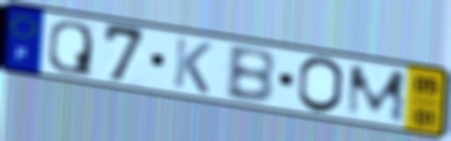7: (101, 20, 148, 85)
B: (223, 45, 278, 106)
K: (171, 35, 215, 97)
M: (344, 63, 409, 126)
O: (295, 55, 346, 116)
Q: (46, 19, 95, 79)
